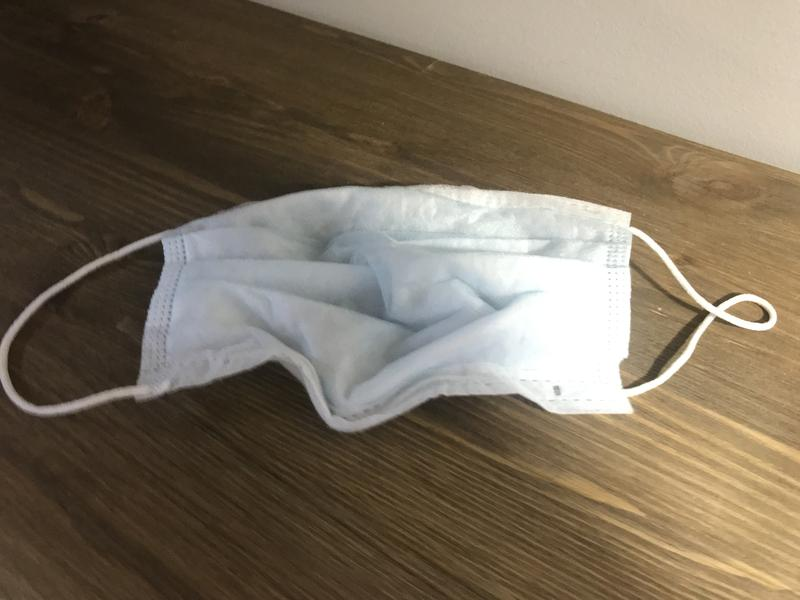medical_mask: (1, 183, 779, 422)
